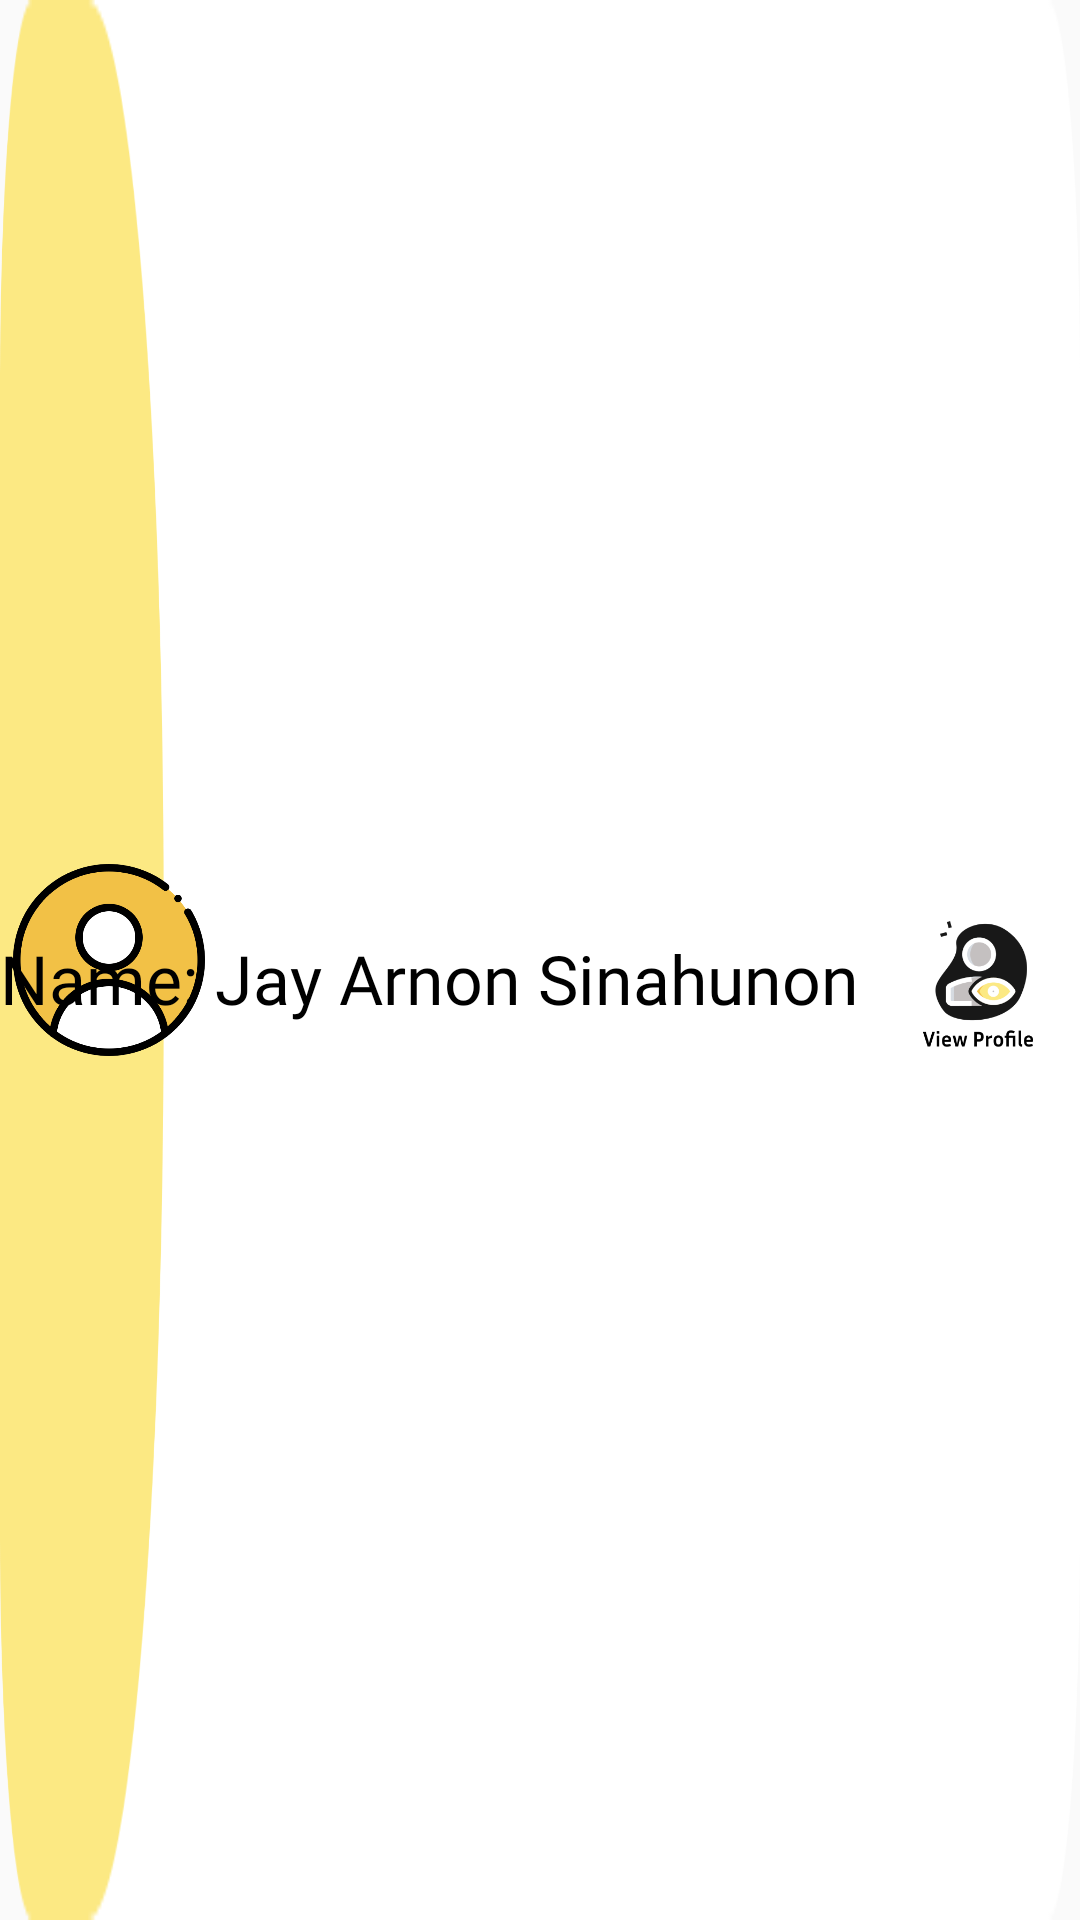

Screen size 1080*1920. Icon name, then its center in pixels as point (x, y):
profile: point (109, 960)
